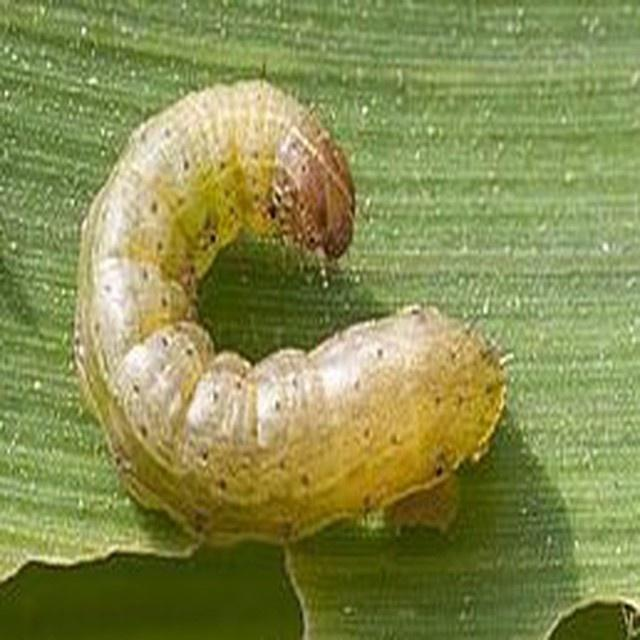gusano_cogollero: (87, 72, 510, 540)
